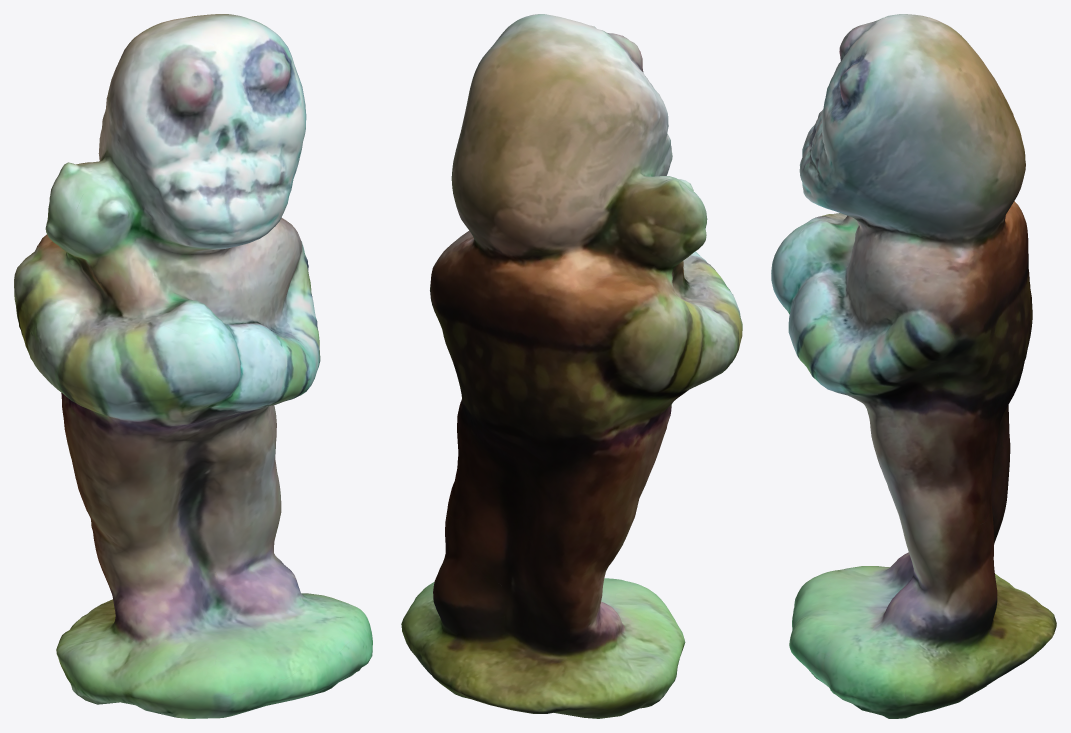
File: Sklett_opt.glb
The picture shows the model from 3 angles, left to right: view 1: azimuth 30°, elevation 25°; view 2: azimuth 150°, elevation 25°; view 3: azimuth 270°, elevation 25°; orthographic projection. The views are drawn at different scales.
Visible parts, largest first — view 1: 3DModel_Custom; view 2: 3DModel_Custom; view 3: 3DModel_Custom.
Part boxes in pixels (x1,y1,x2,y2): 3DModel_Custom: (14, 14, 372, 718); 3DModel_Custom: (401, 14, 742, 718); 3DModel_Custom: (771, 14, 1056, 718).
Bounding box in the file's own units: 0.1529 × 0.3076 × 0.1261.
Materials: 1 (1 with a texture image).
